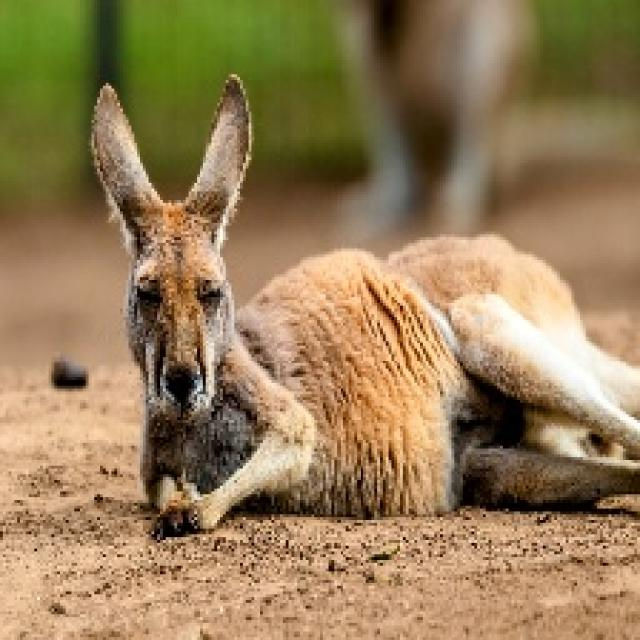animal: (50, 58, 640, 541)
